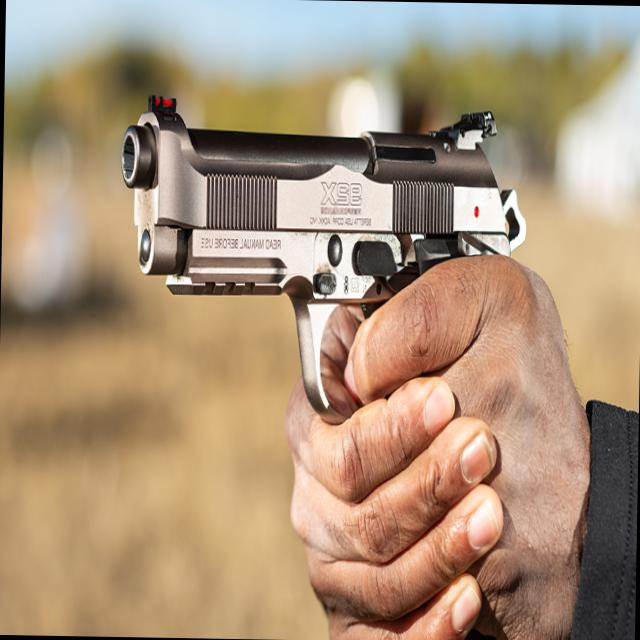Gun: (94, 87, 503, 377)
